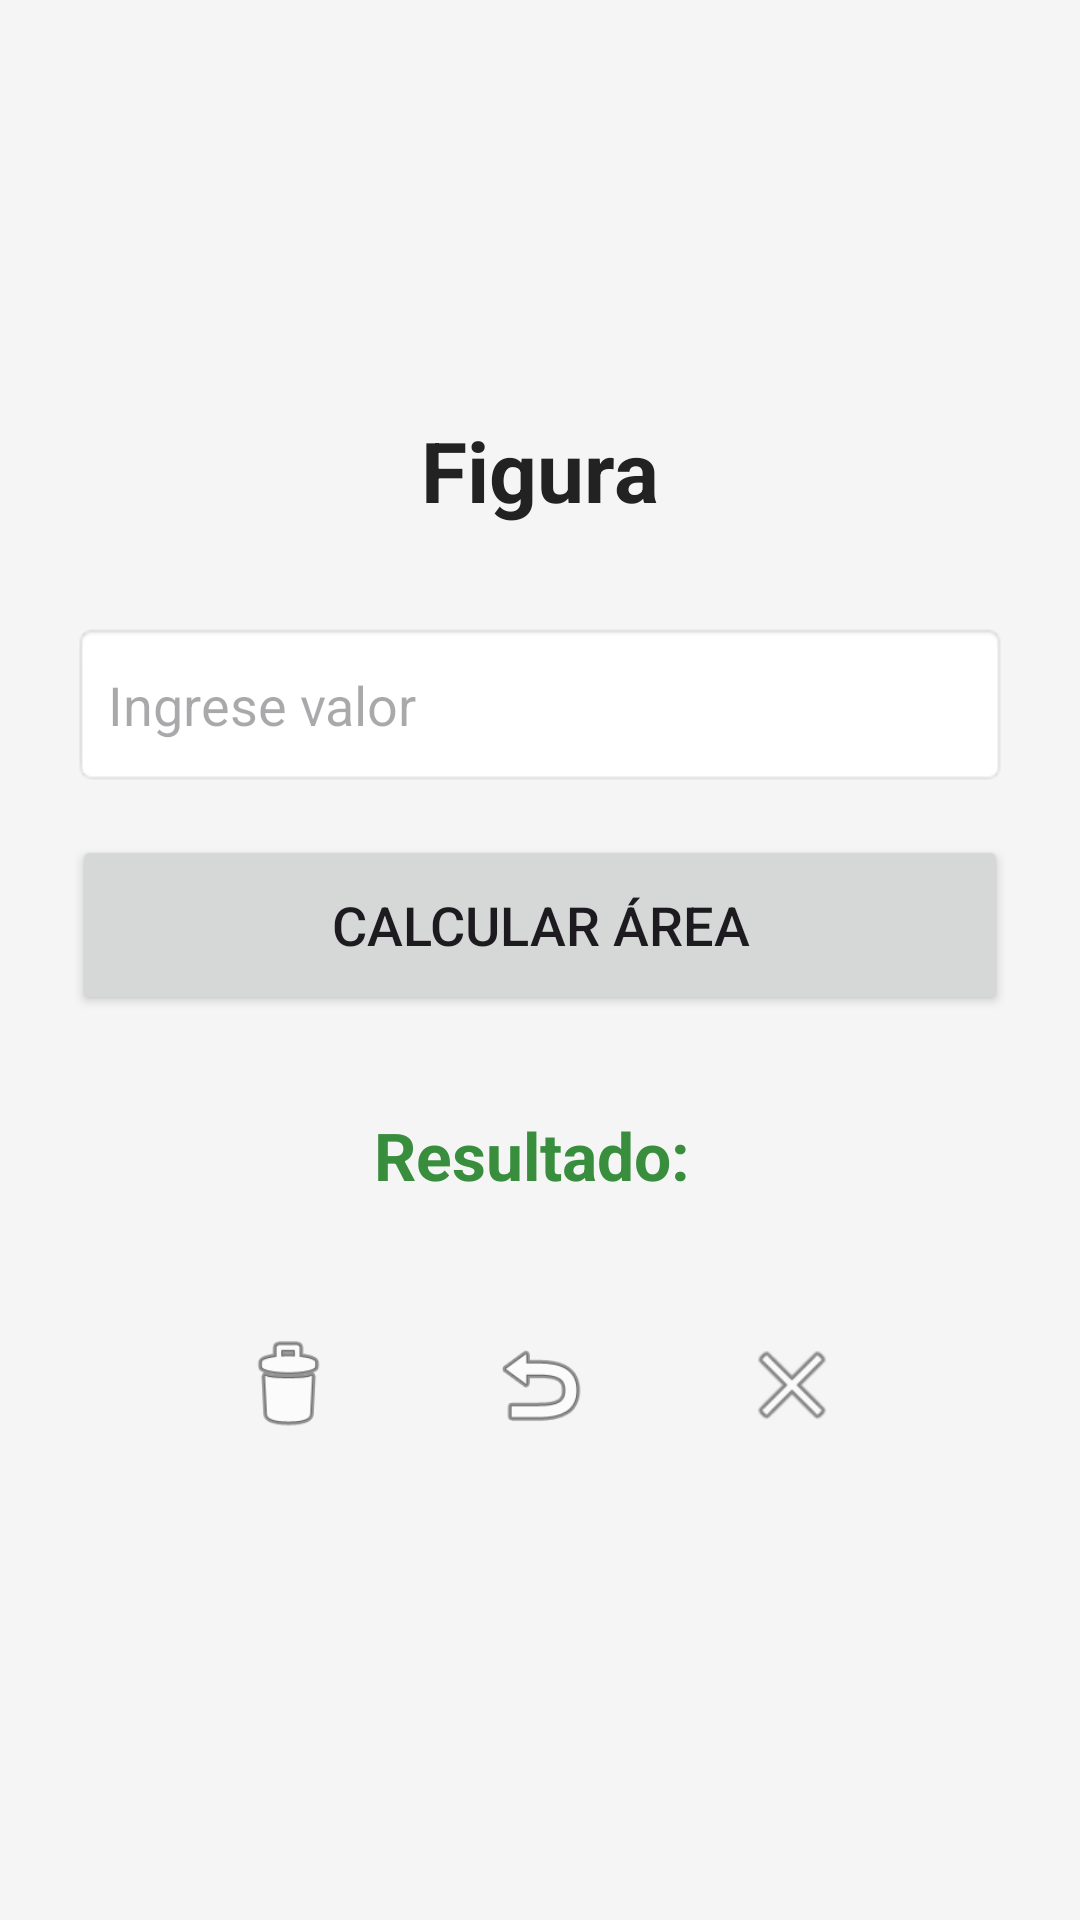

Where to tap for icons on this 1080px x 1920px app screen, as (x=x, y=y):
Limpiar: (x=288, y=1383)
Salir: (x=792, y=1385)
